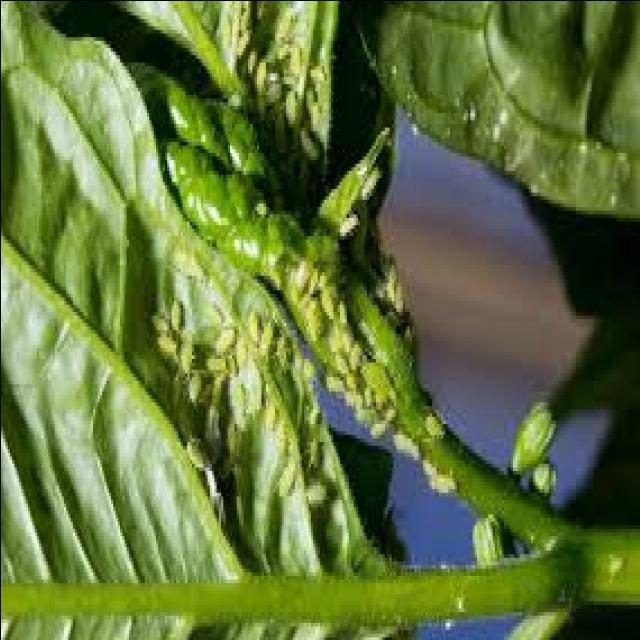aphid: (352, 354, 400, 412), (265, 448, 301, 514), (380, 426, 424, 471), (420, 466, 460, 514), (595, 542, 631, 592), (415, 402, 447, 452), (274, 87, 303, 141), (332, 206, 364, 253), (204, 322, 236, 369), (142, 307, 176, 351), (298, 474, 330, 520), (355, 159, 382, 213), (362, 412, 394, 456), (292, 123, 321, 170), (249, 318, 276, 368), (236, 308, 265, 354), (180, 434, 208, 481), (178, 369, 206, 416), (321, 347, 353, 387), (162, 293, 186, 343), (278, 44, 304, 90), (310, 289, 339, 329), (224, 376, 244, 434), (247, 54, 270, 104), (150, 332, 180, 368), (227, 25, 251, 69), (316, 372, 348, 404), (519, 520, 541, 560), (247, 195, 267, 228)
